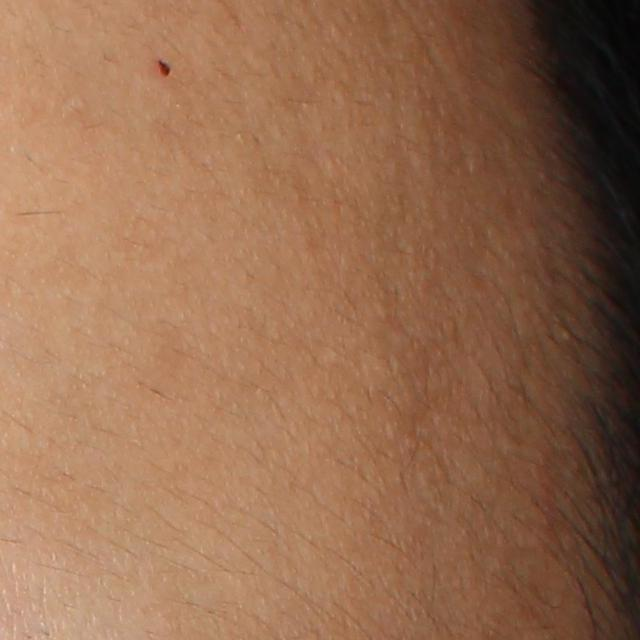other: (154, 56, 174, 81)
